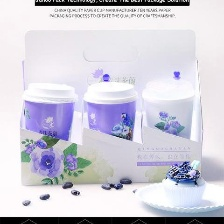paper_cup: (78, 78, 141, 146), (17, 78, 80, 146), (138, 76, 197, 147)
